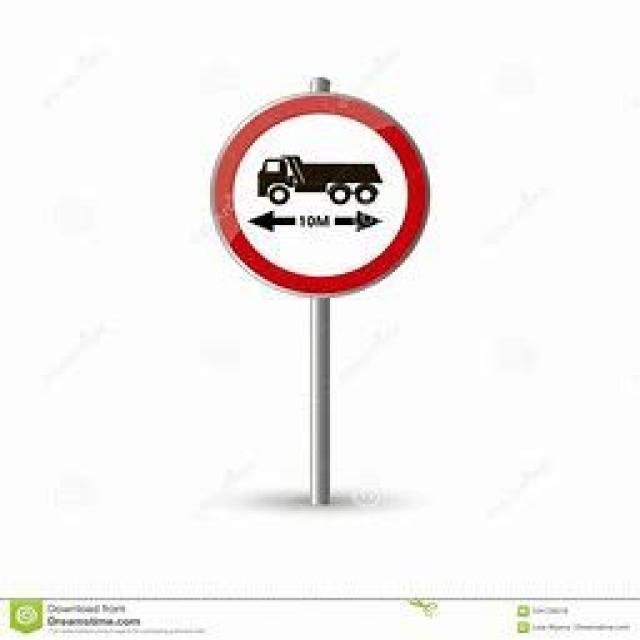length_limit: (205, 92, 435, 296)
